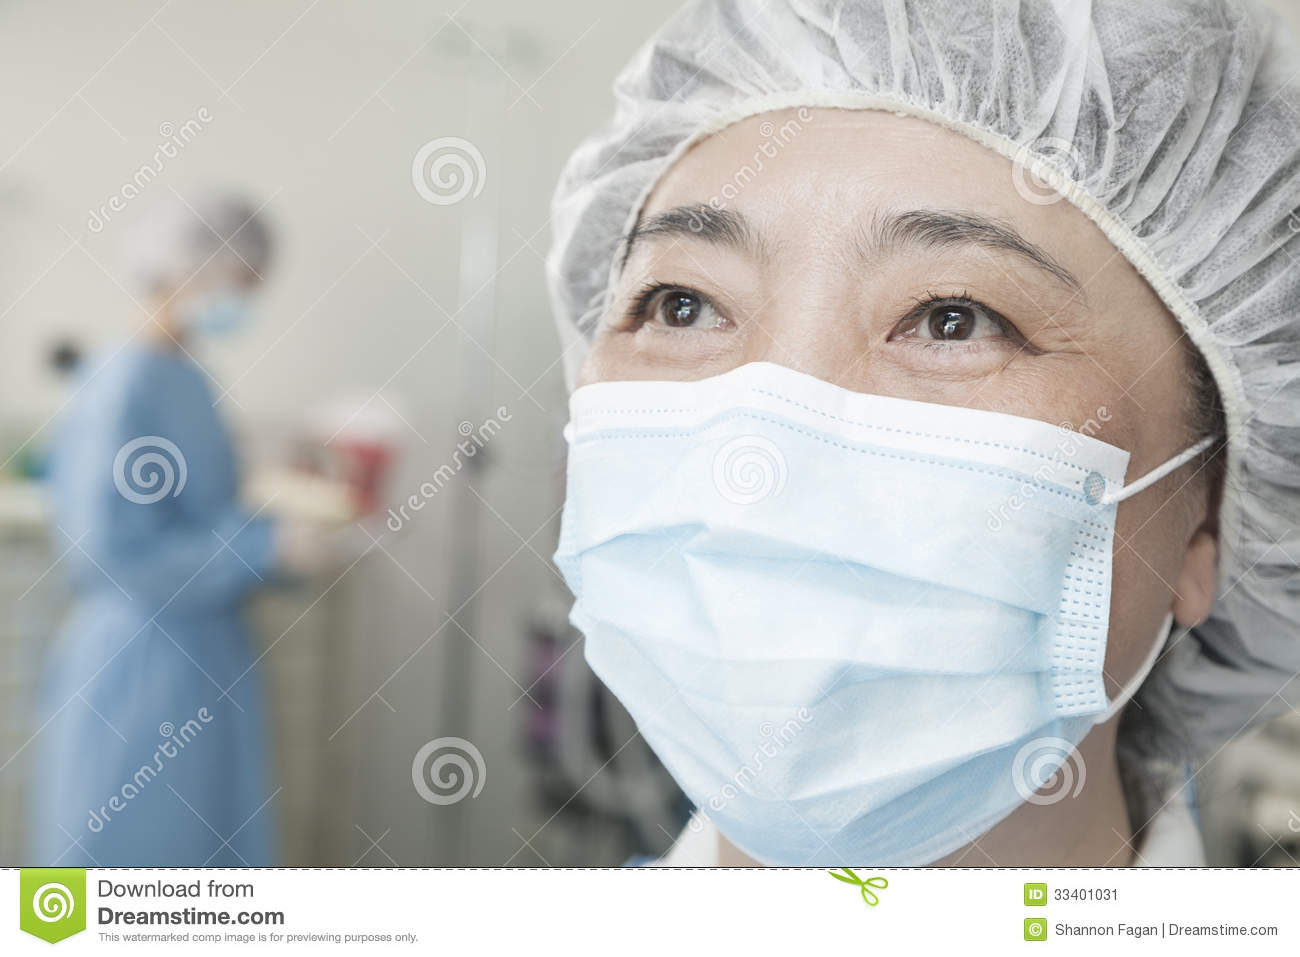mask: (573, 399, 1178, 857)
